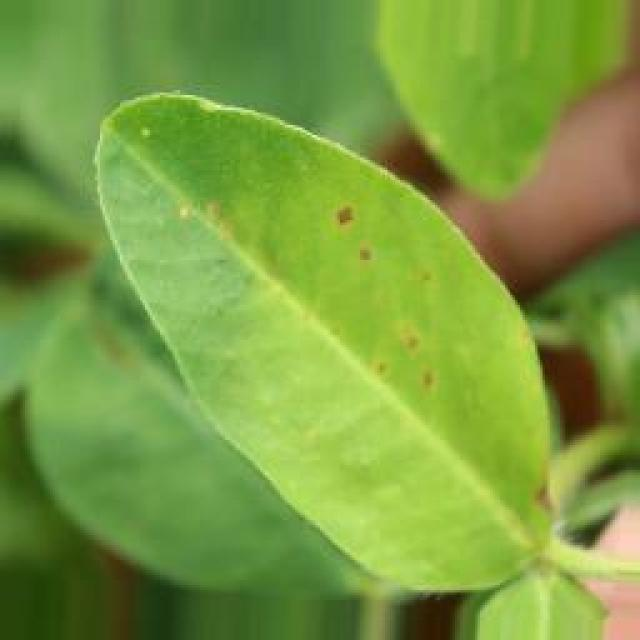Sigatoka: (333, 314, 452, 418), (302, 185, 393, 273), (394, 240, 461, 328), (506, 447, 570, 536)
